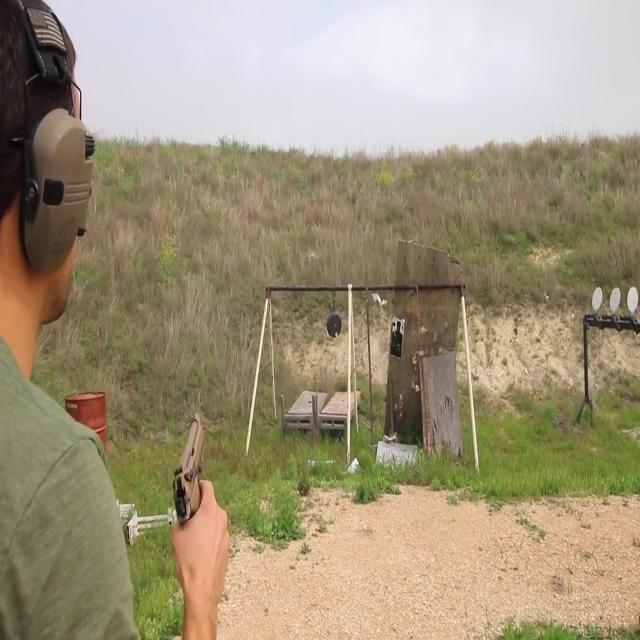Weapon: (147, 378, 237, 552)
